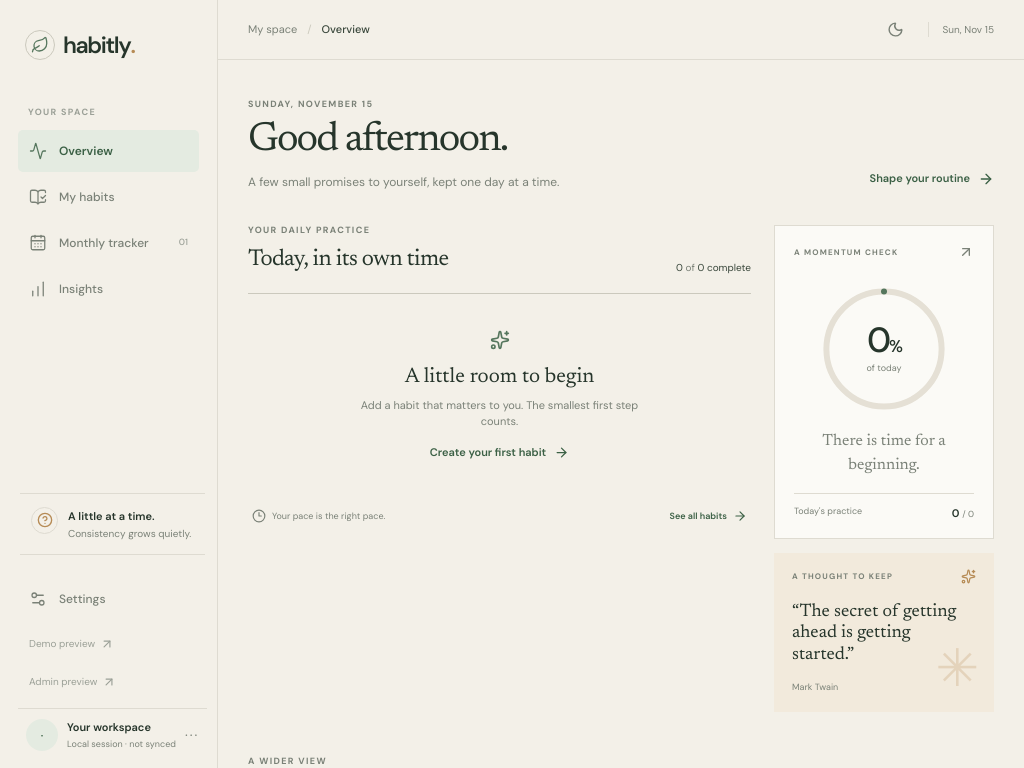
Test: Habitly frontend › renders the overview and navigates to the monthly tracker
Expected: the heading "Good afternoon." is shown, [248,120,507,161]
Click the link "Monthly tracker 01" at (108, 243), box [29,234,188,252]
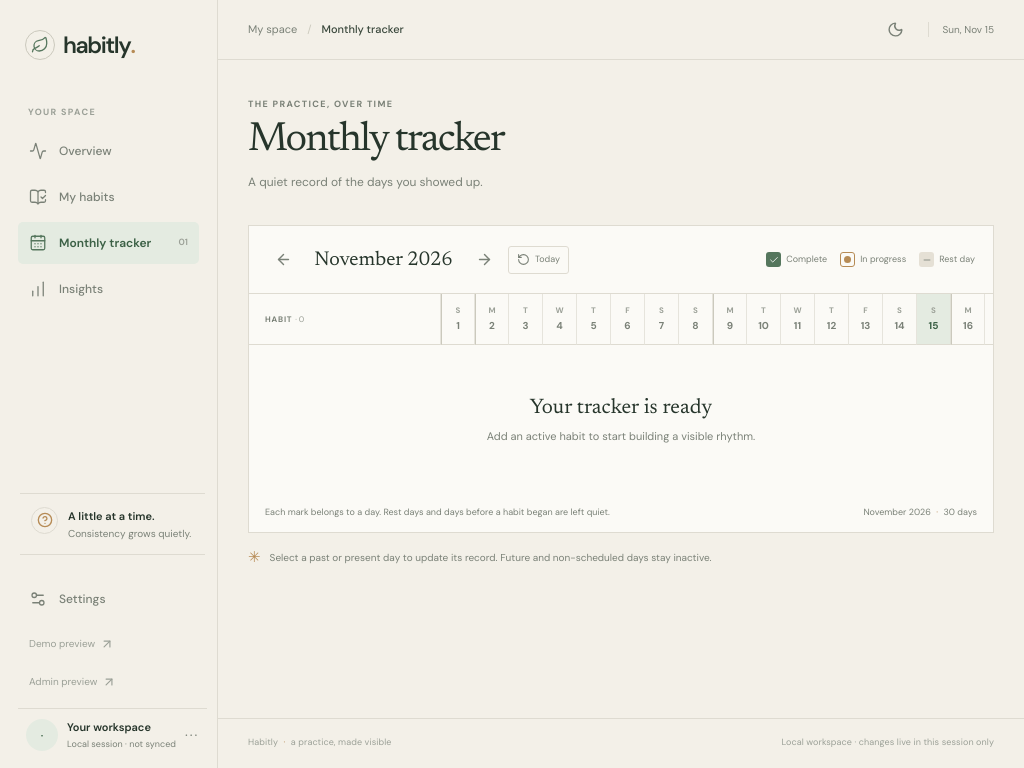
Result: the heading "Monthly tracker" is shown at [248,120,504,162]
Result: the table named "monthly habit tracker" is shown at [249,294,993,345]
